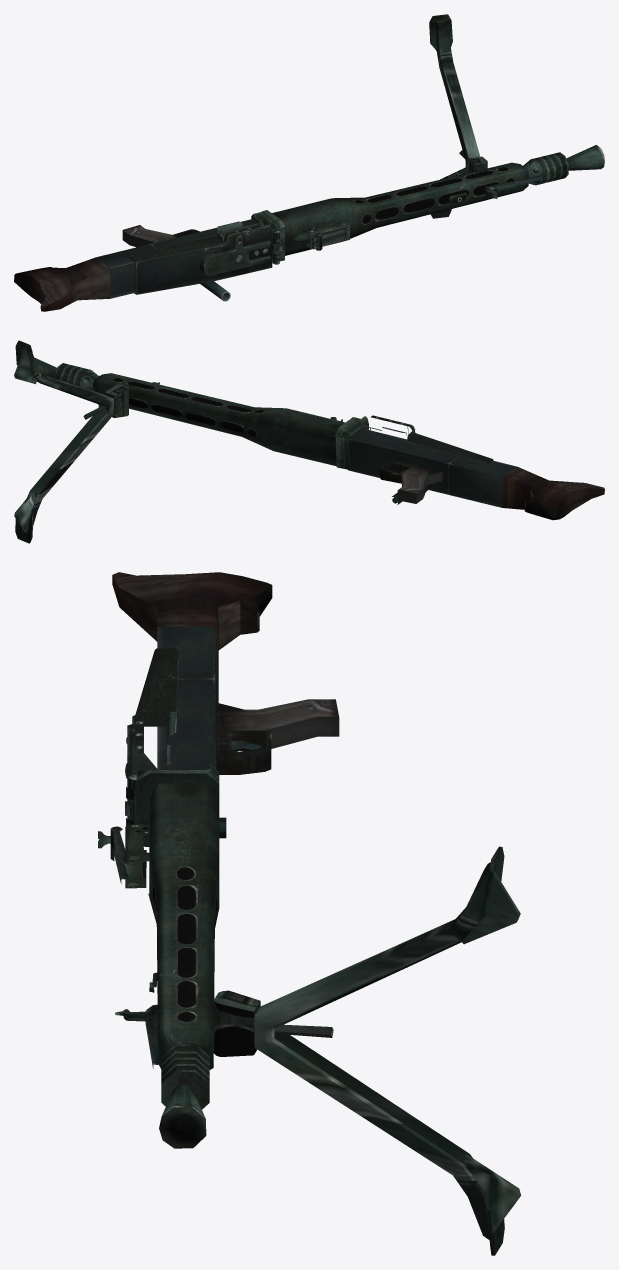
Rendered from weapon_mg42_carry.glb.
3 renders of one model, top to bottom at view 1: azimuth 30°, elevation 25°; view 2: azimuth 150°, elevation 25°; view 3: azimuth 270°, elevation 25°, orthographic. The views are drawn at different scales.
Bounding box in the file's own units: 57.42 × 19.3 × 18.7.
1 material, 1 textured.
